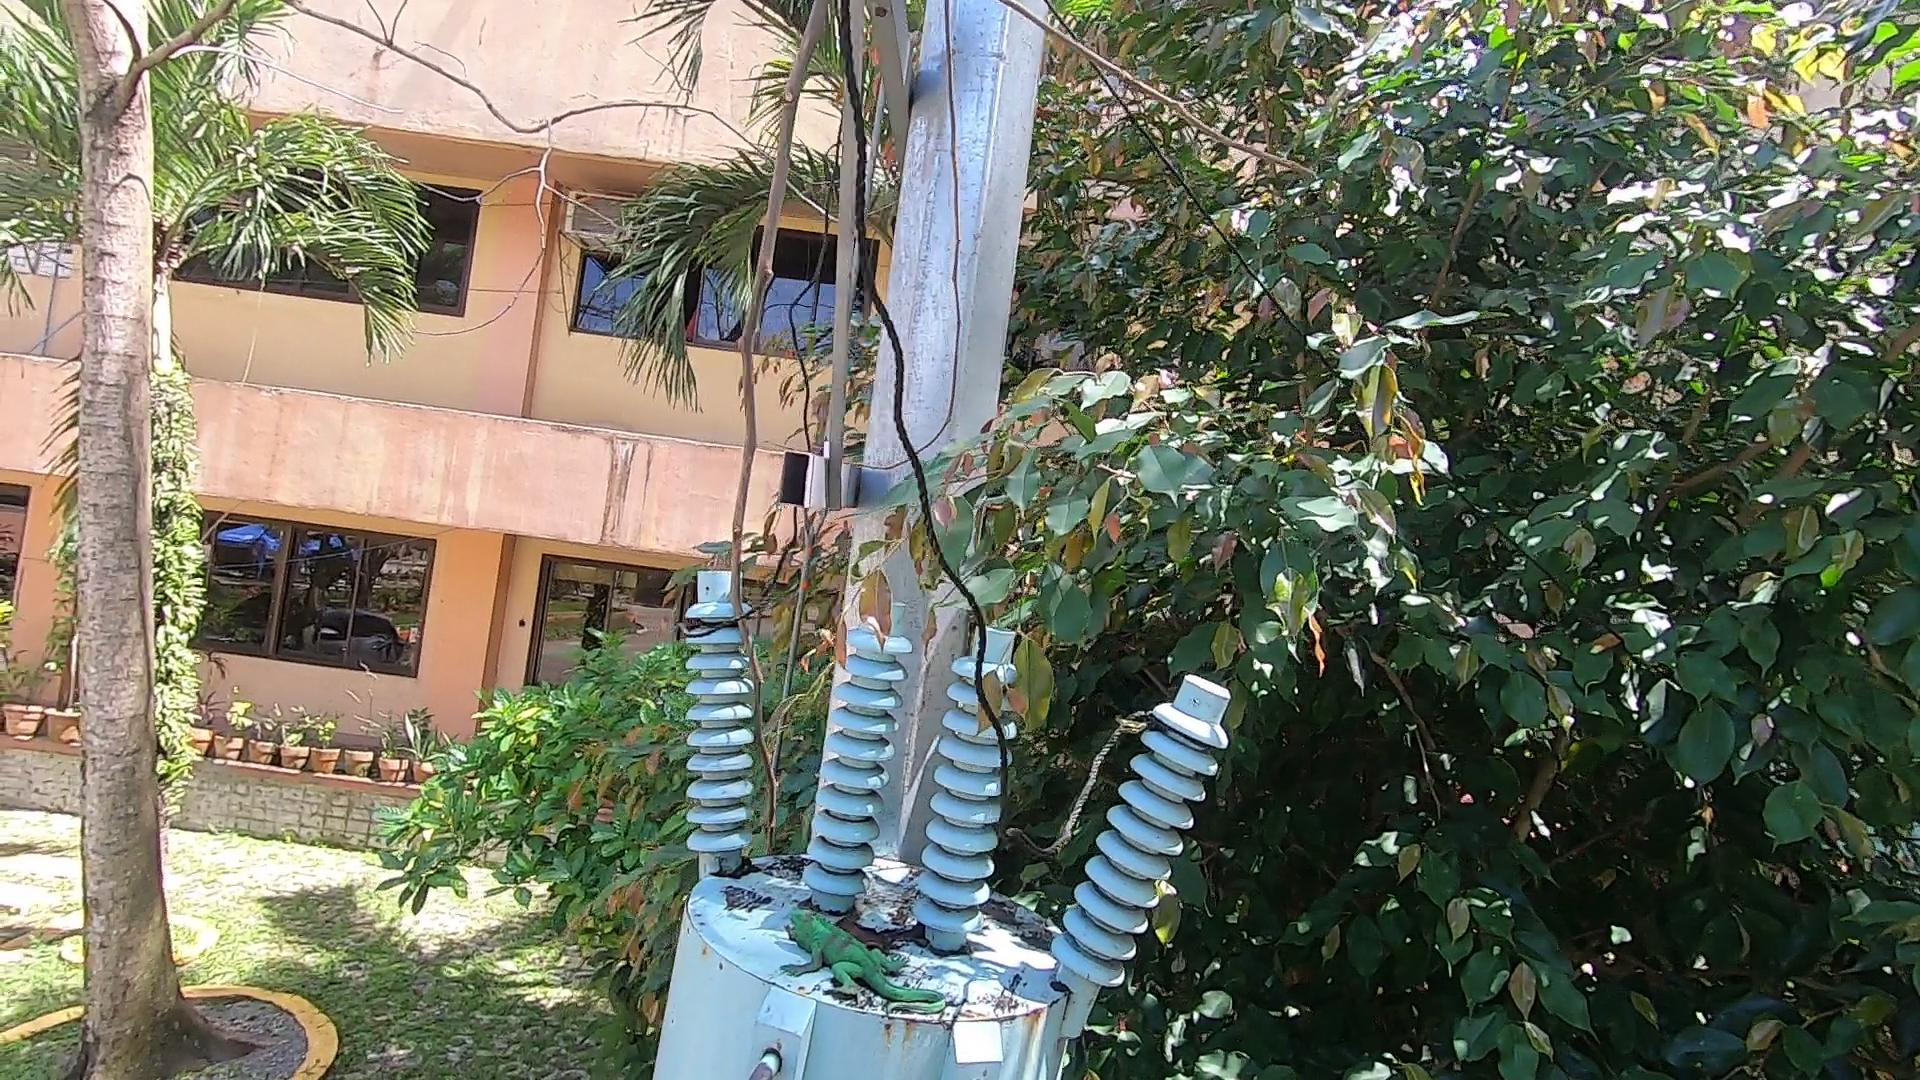branch with leaves: (818, 483, 1120, 742)
leaf: (831, 903, 934, 953), (982, 905, 1058, 957), (723, 851, 781, 884)
tree branch: (719, 7, 1327, 847)
